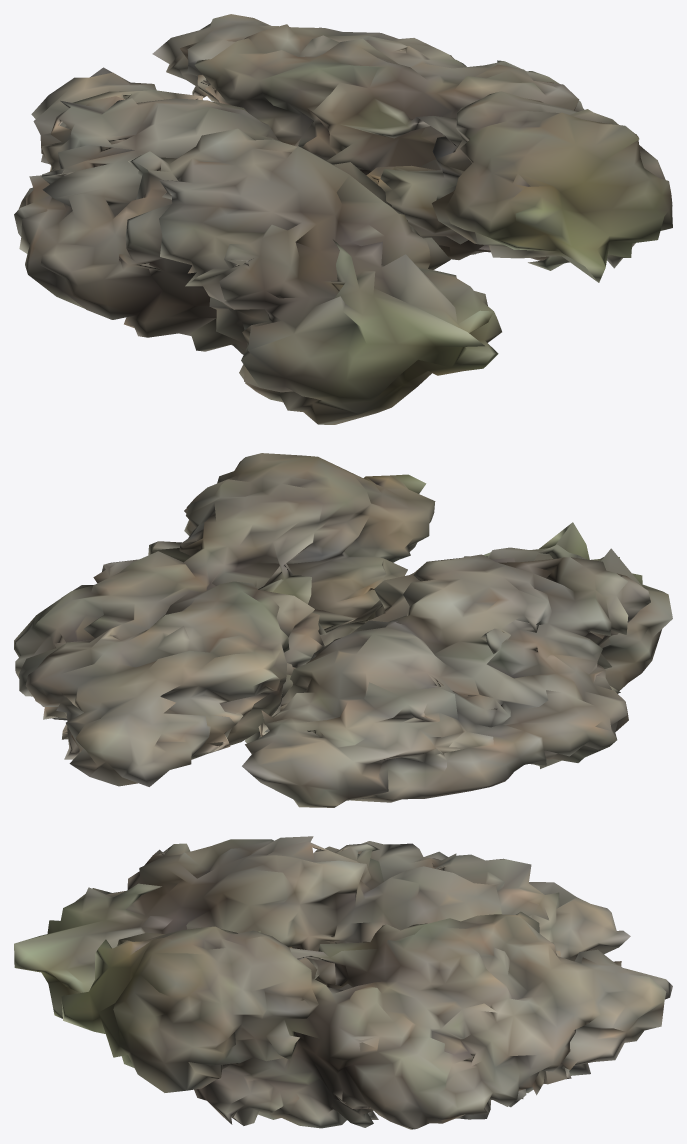
Rendered from weed.fbx.
The picture shows the model from 3 angles, top to bottom: view 1: azimuth 30°, elevation 25°; view 2: azimuth 150°, elevation 25°; view 3: azimuth 270°, elevation 25°; orthographic projection. The views are drawn at different scales.
Visible parts, largest first — view 1: meshNode.004, meshNode.003; view 2: meshNode.003, meshNode.004; view 3: meshNode.003, meshNode.004.
Boxes of the visible parts, left/top/right/bottom form: meshNode.004: left=14, top=67, right=501, bottom=424; meshNode.003: left=152, top=14, right=672, bottom=282; meshNode.003: left=14, top=453, right=435, bottom=786; meshNode.004: left=242, top=522, right=672, bottom=807; meshNode.003: left=61, top=911, right=672, bottom=1129; meshNode.004: left=14, top=836, right=630, bottom=1018.
Size of what is drawn, in the model's own units: 19.52 by 6.46 by 21.9.
